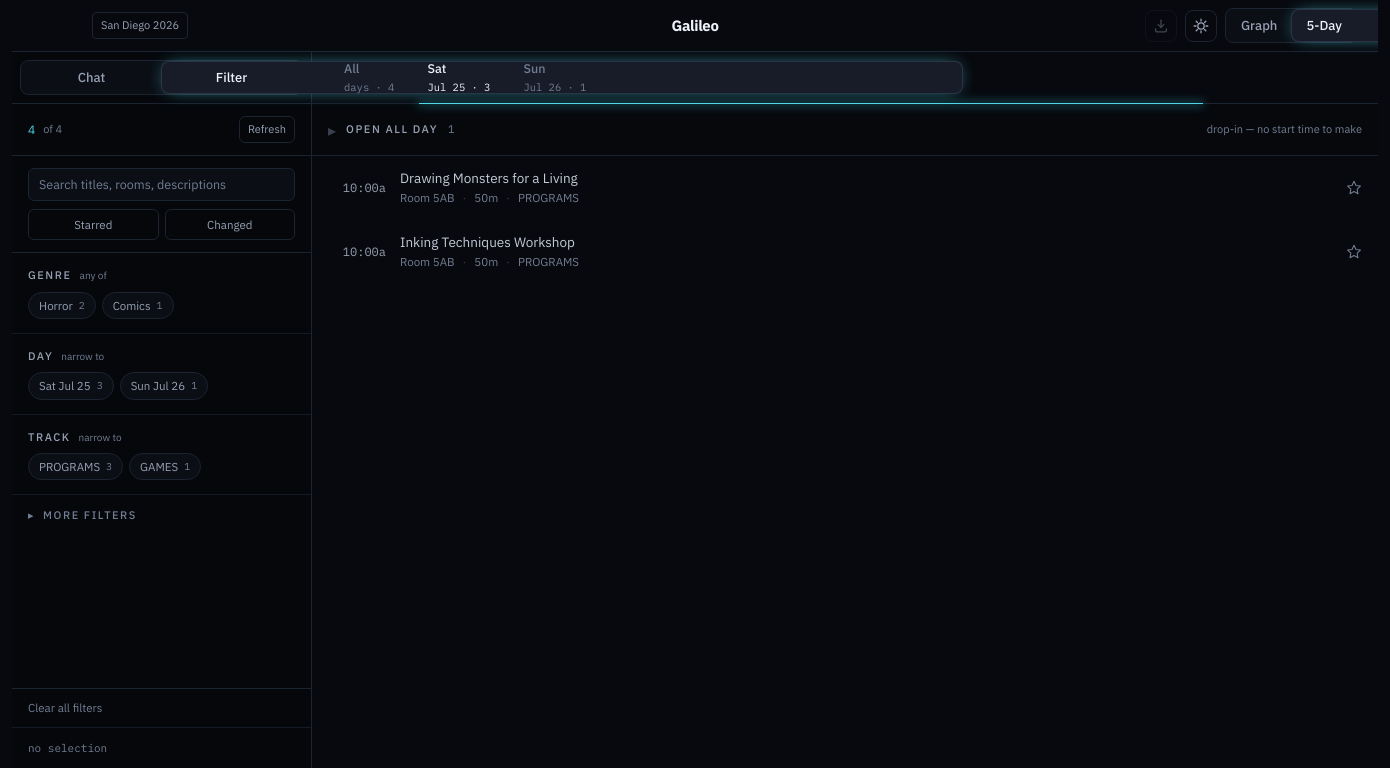
Test: change flags › keeps a star on the moved event and its selection intact
Expected: the text "Drawing Monsters for a Living" is shown, [400,170,578,187]
Click the button named "Star Drawing Monsters": {"x": 1354, "y": 188} [1342,176,1366,200]
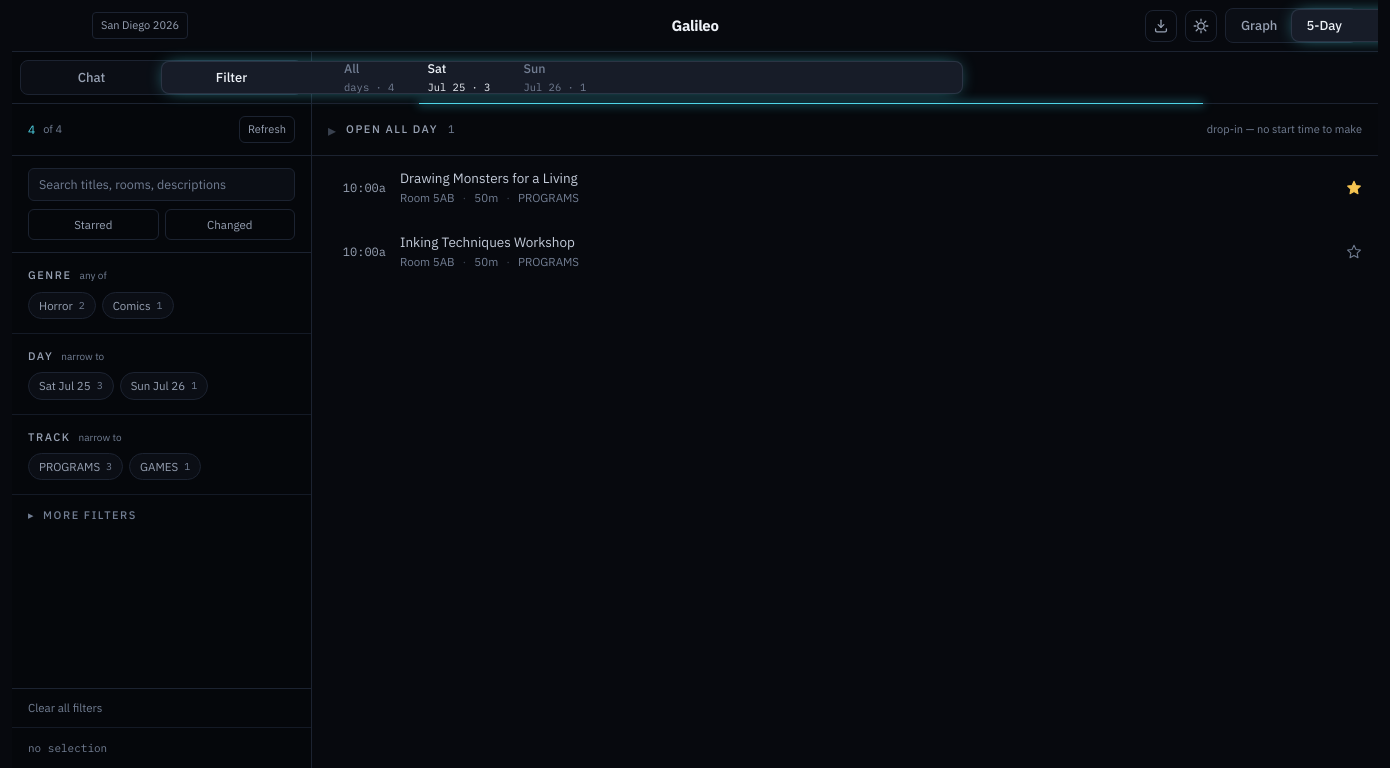
Click the text "Drawing Monsters for a Living": {"x": 489, "y": 178} [400,170,578,187]
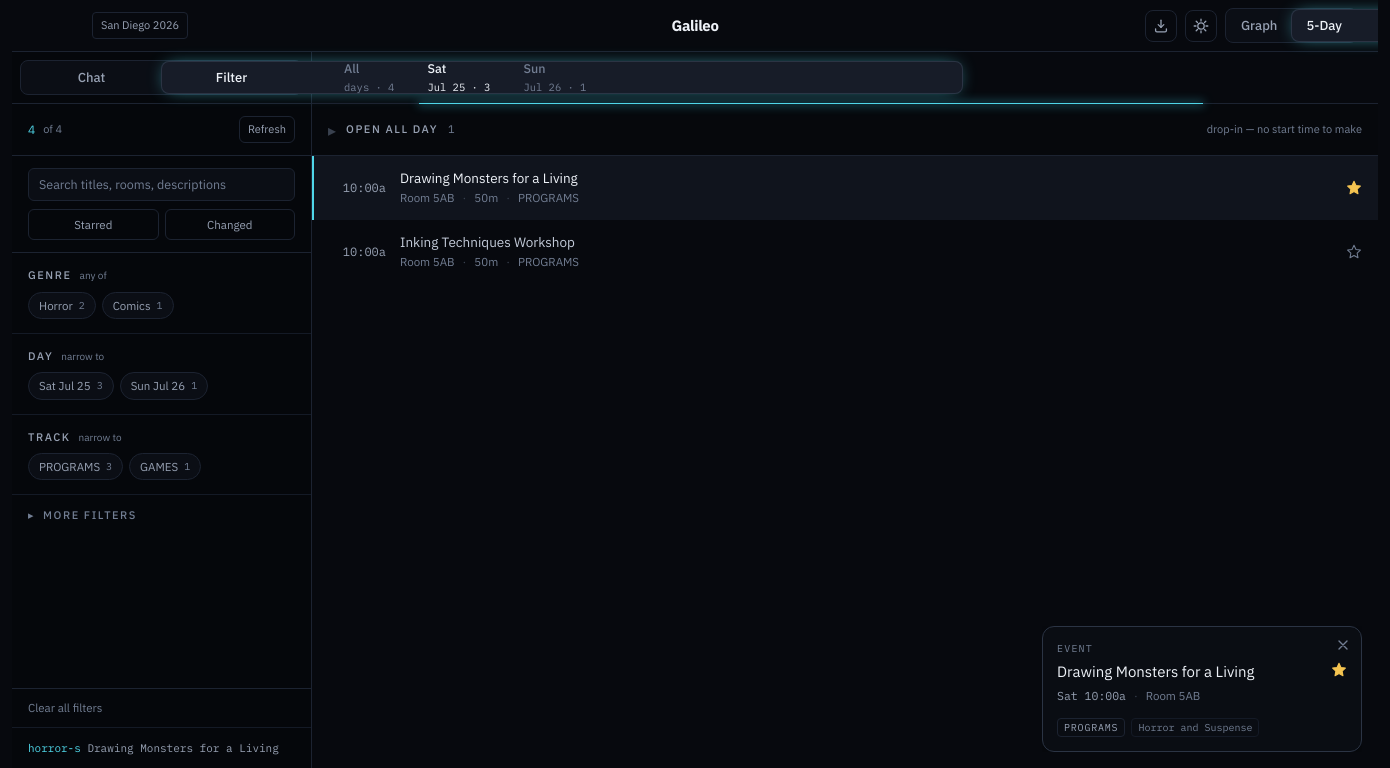
Click the button "Refresh": {"x": 267, "y": 130} [239,116,295,143]
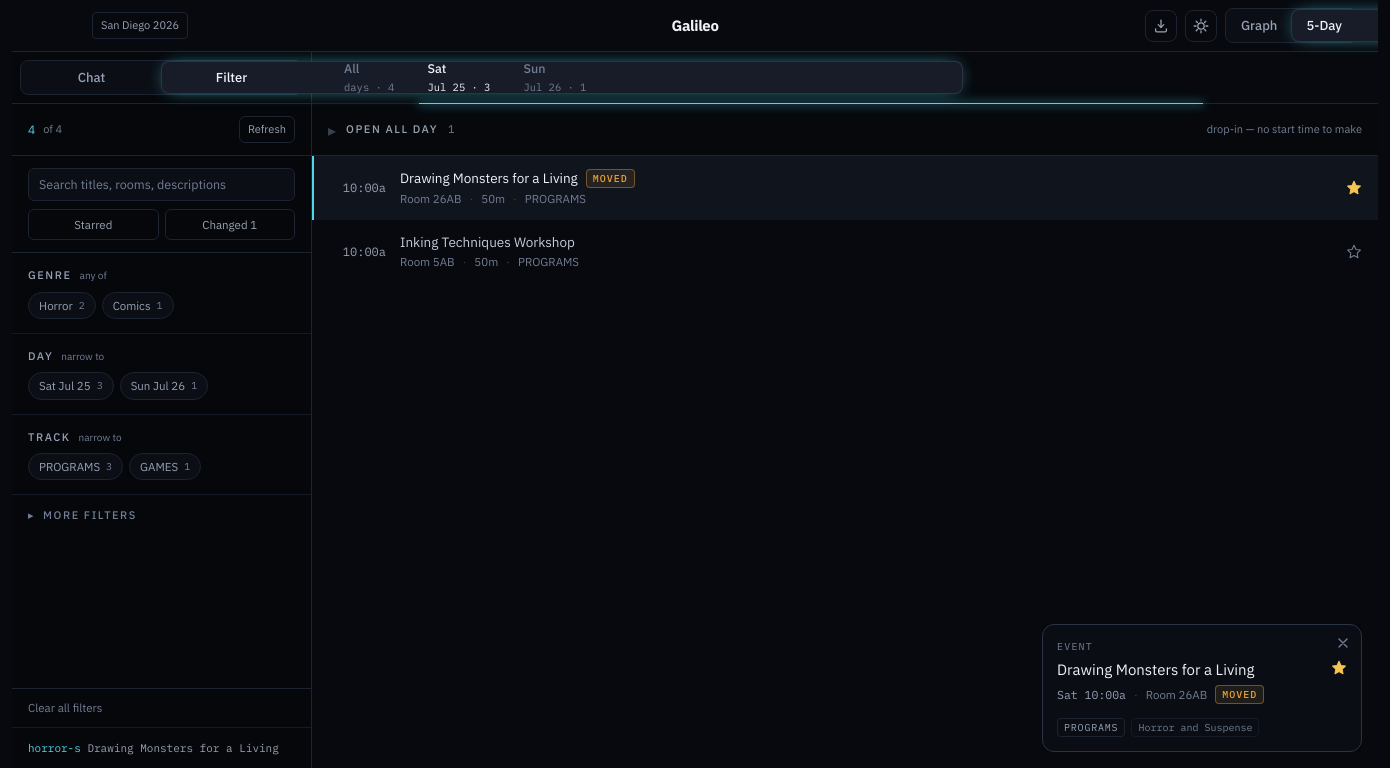
Now the number of buttons named "Unstar Drawing Monsters" is 2, box [1342,176,1366,200]; [1327,656,1351,680]
Now the text "Room 26AB" is shown 2 times, box [400,190,462,207]; [1146,686,1207,703]
Now the text "MOVED" is shown 2 times, box [586,169,635,188]; [1215,685,1264,704]
